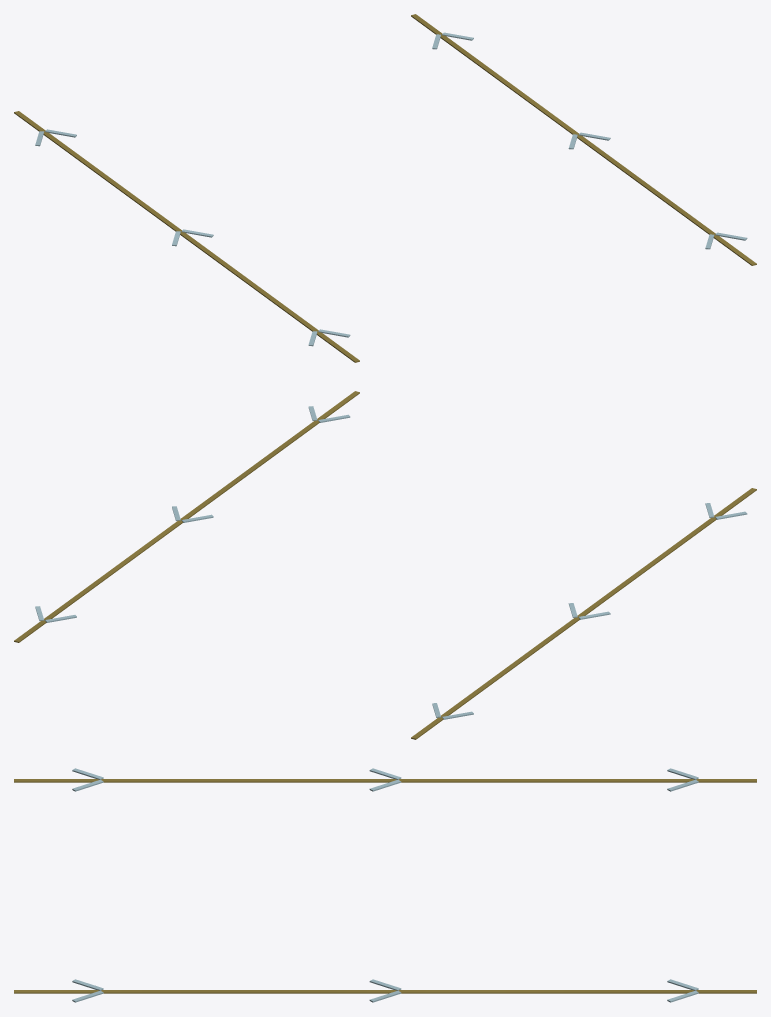
Rendered from Service_Markings.fbx.
The picture shows the model from 3 angles, top to bottom: view 1: azimuth 30°, elevation 25°; view 2: azimuth 150°, elevation 25°; view 3: azimuth 270°, elevation 25°; orthographic projection. The views are drawn at different scales.
Parts seen in each view (by area): view 1: Service_Markings; view 2: Service_Markings; view 3: Service_Markings.
Part boxes in pixels (box(x1,y1,x2,y2)): Service_Markings: box(14, 14, 756, 362); Service_Markings: box(14, 391, 756, 739); Service_Markings: box(14, 768, 756, 1002).
Bounding box in the file's own units: 5.75 × 0.024 × 7.74.
